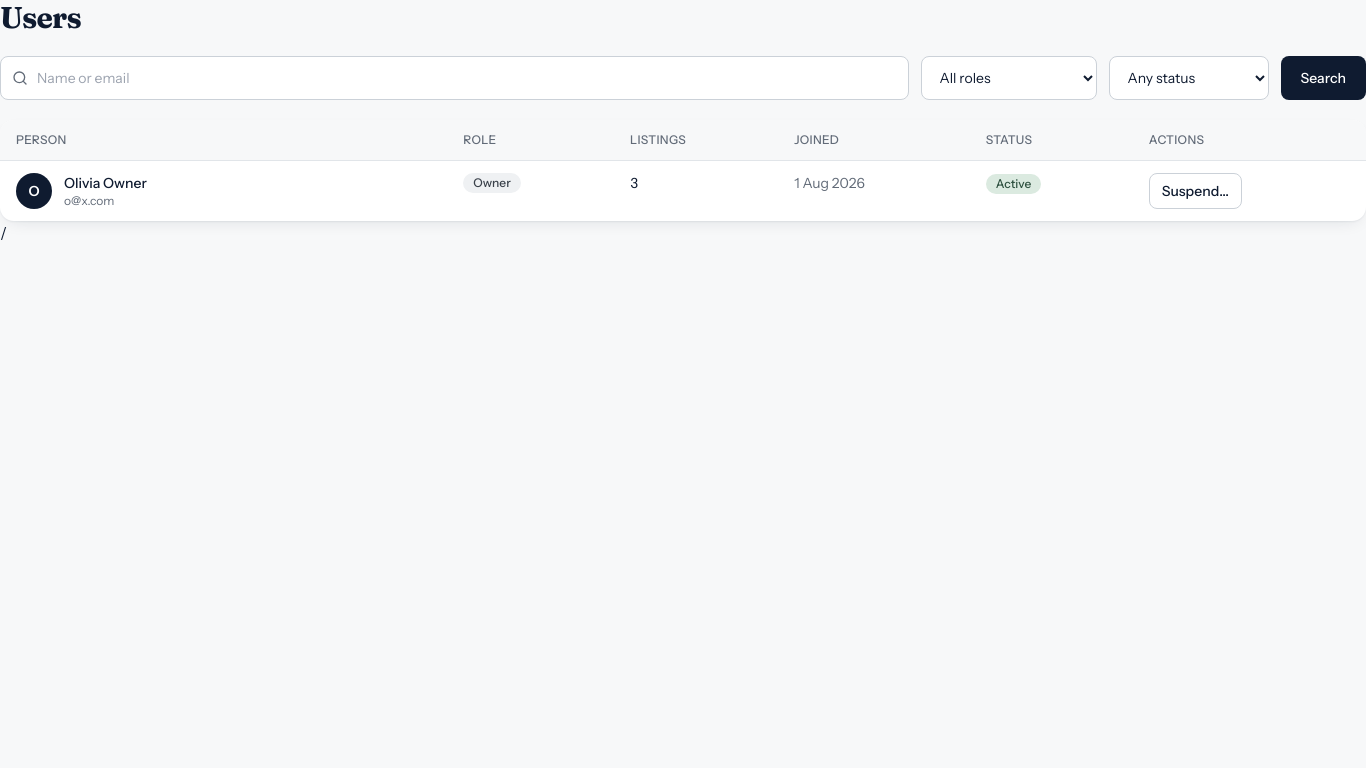
Test: users › suspending needs a reason and reports what it did
Click the button "Suspend…" at {"x": 1195, "y": 191}, box [1149, 173, 1242, 209]
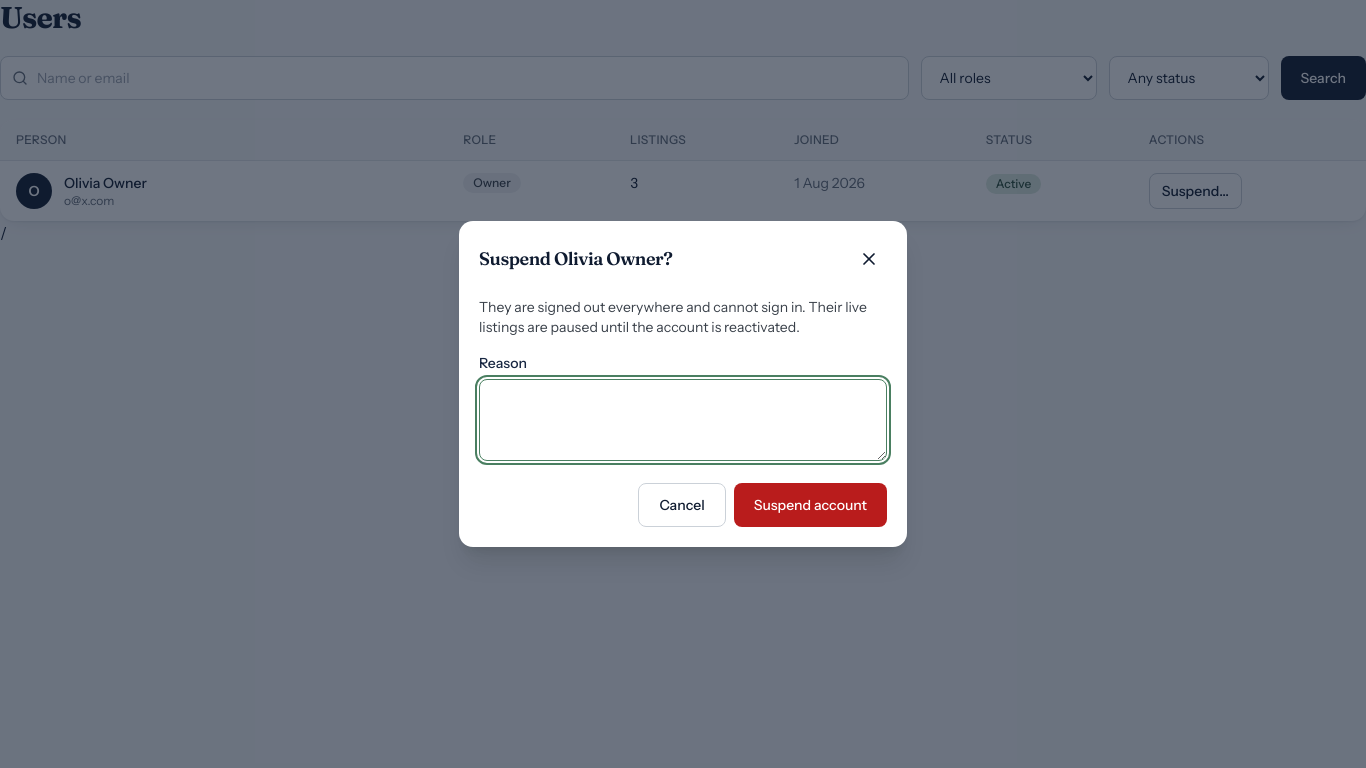
Click the button "Suspend account" at {"x": 810, "y": 505}, box [734, 483, 887, 527]
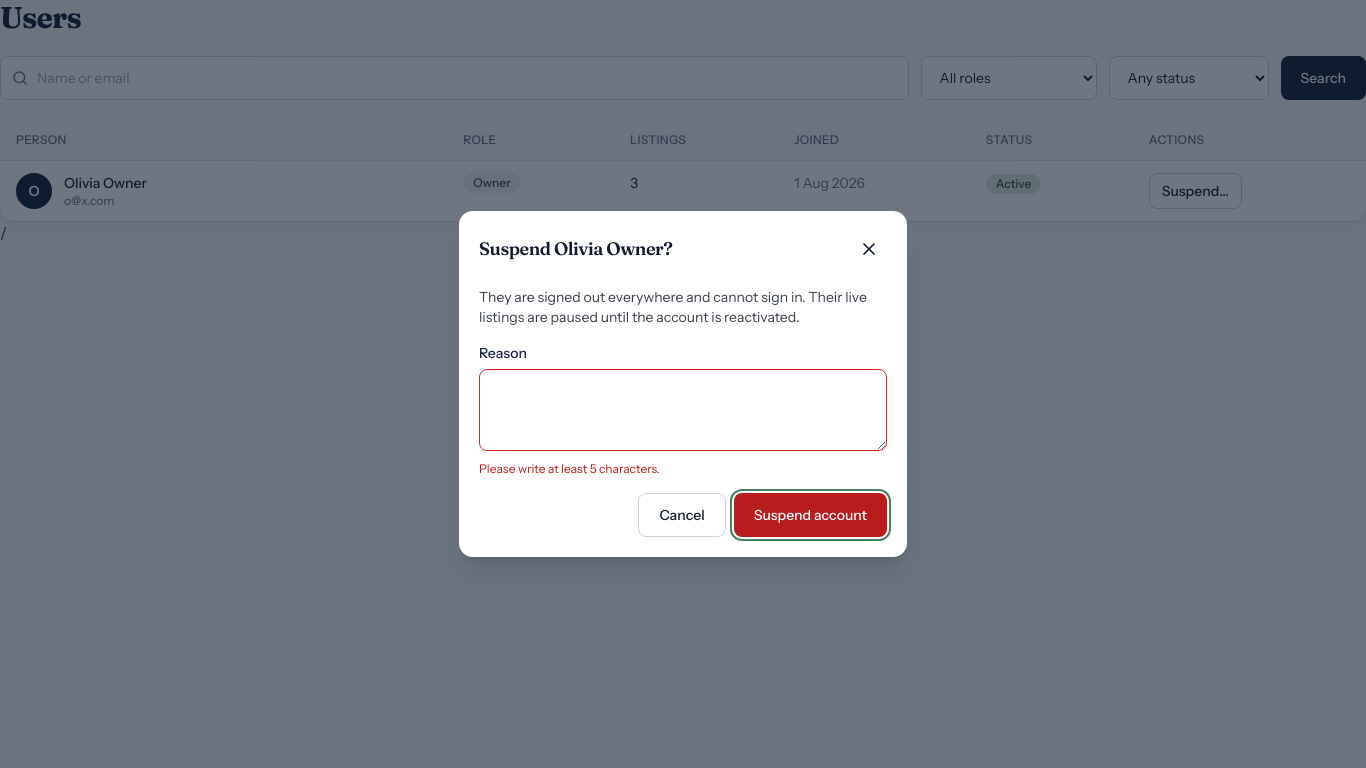
Now the text "Please write at least 5 characters." is shown, box [479, 461, 660, 476]
Type "Repeated fake listings" into the text box labelled "Reason" at {"x": 683, "y": 410}, box [479, 369, 887, 451]
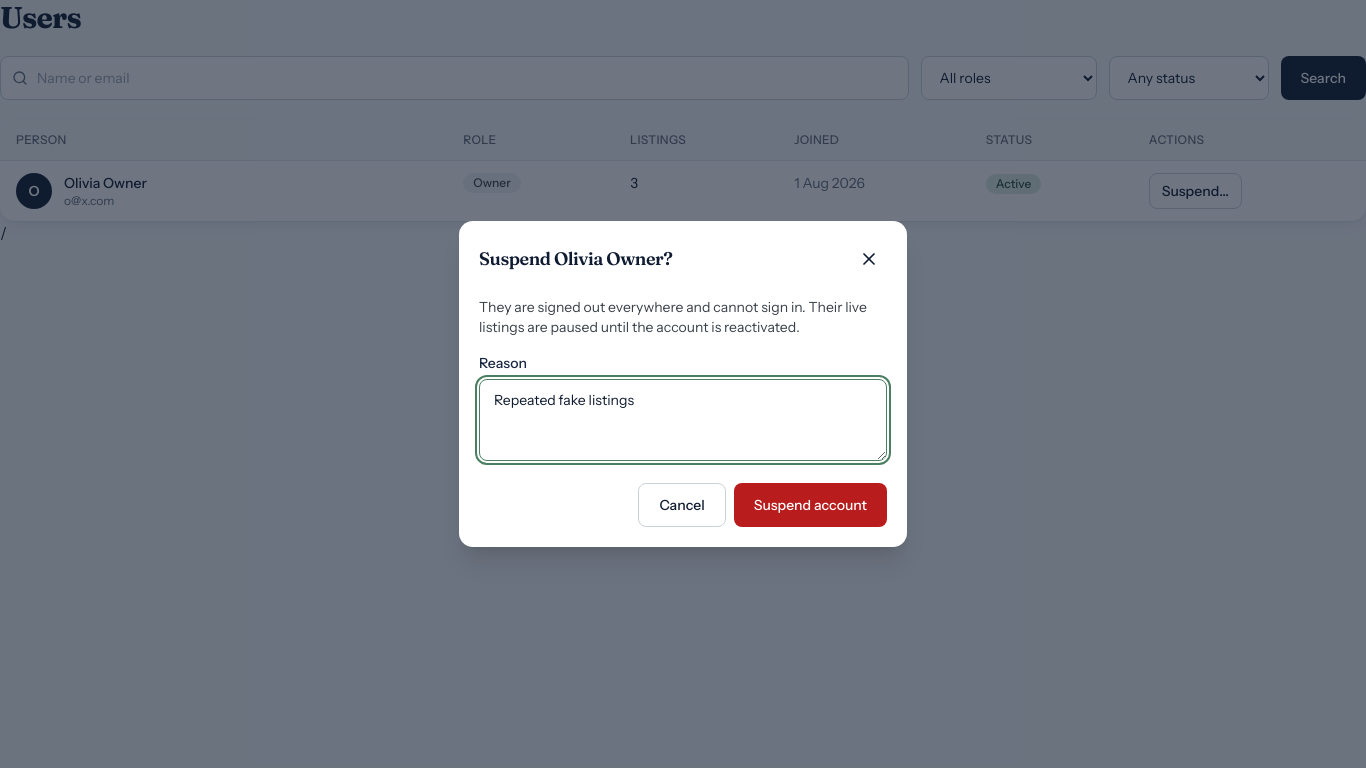
Click the button "Suspend account" at {"x": 810, "y": 505}, box [734, 483, 887, 527]
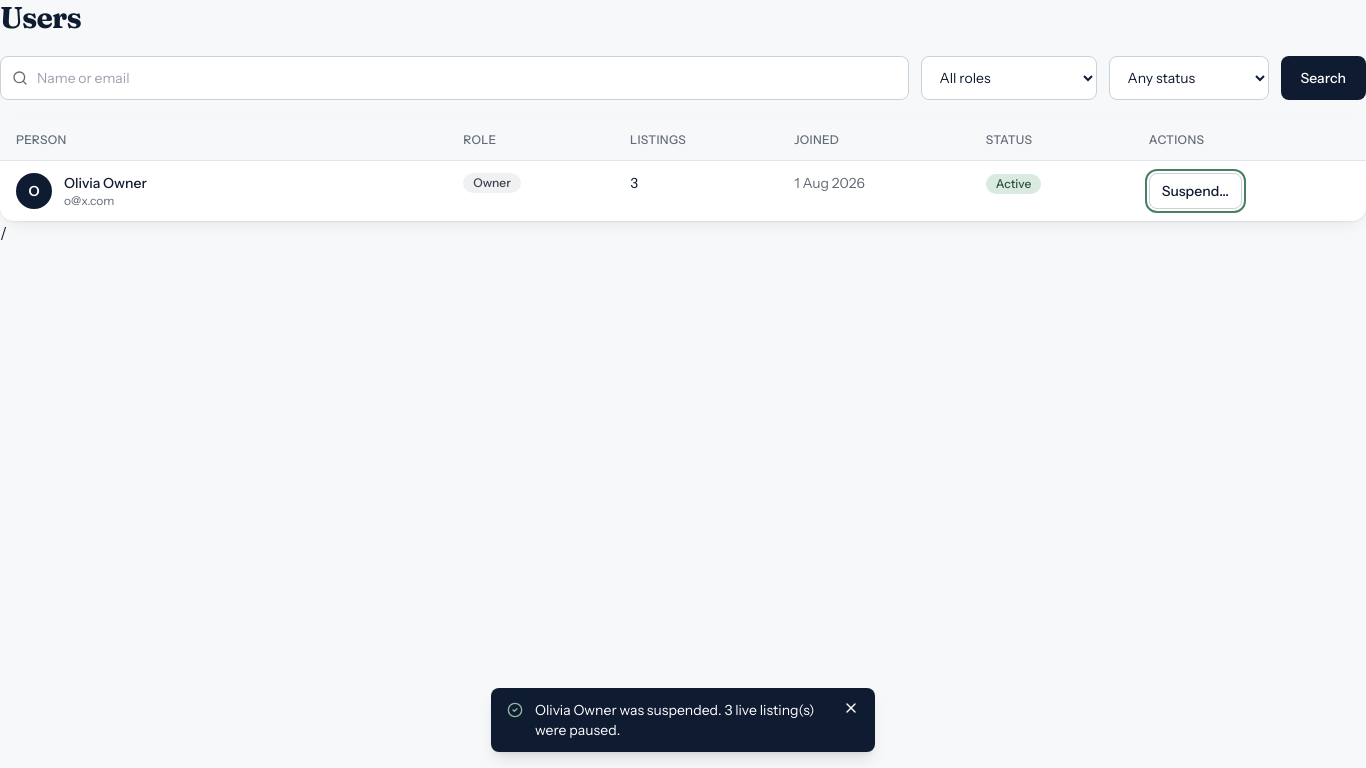
Now the text "Olivia Owner was suspended. 3 live listing(s) were paused." is shown, box [535, 700, 831, 740]
